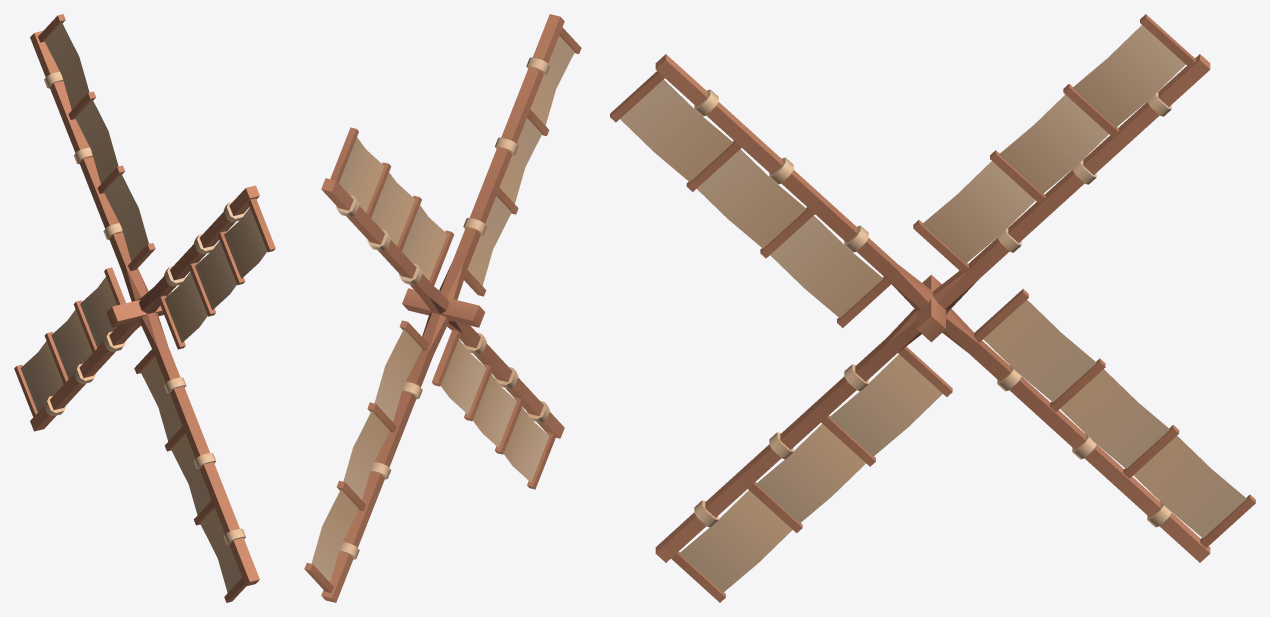
Rendered from windmill.glb.
3 renders of one model, left to right at view 1: azimuth 30°, elevation 25°; view 2: azimuth 150°, elevation 25°; view 3: azimuth 270°, elevation 25°, orthographic. The views are drawn at different scales.
Visible parts, largest first — view 1: windmill; view 2: windmill; view 3: windmill.
Part boxes in pixels (x1,y1,x2,y2): windmill: [14, 14, 275, 602]; windmill: [304, 14, 581, 602]; windmill: [610, 14, 1255, 602].
Bounding box in the file's own units: 0.4709 × 3.11 × 3.11.
1 material, 1 textured.
